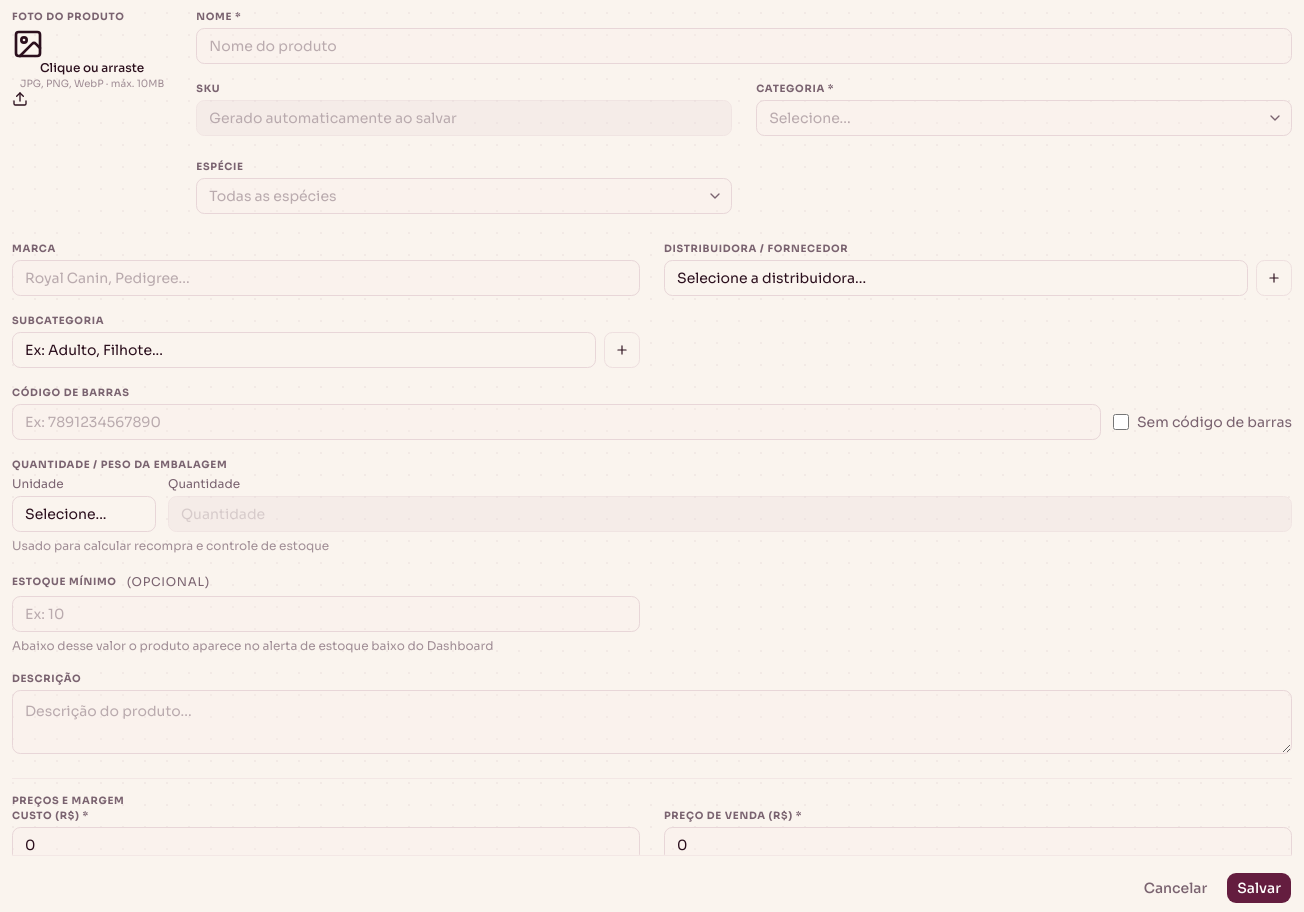
Test: ProdutoForm — distribuidora › distribuidora realmente nova continua sendo adicionada
Click the button titled "Nome da nova distribuidora" at (1274, 278), box [1256, 260, 1292, 296]
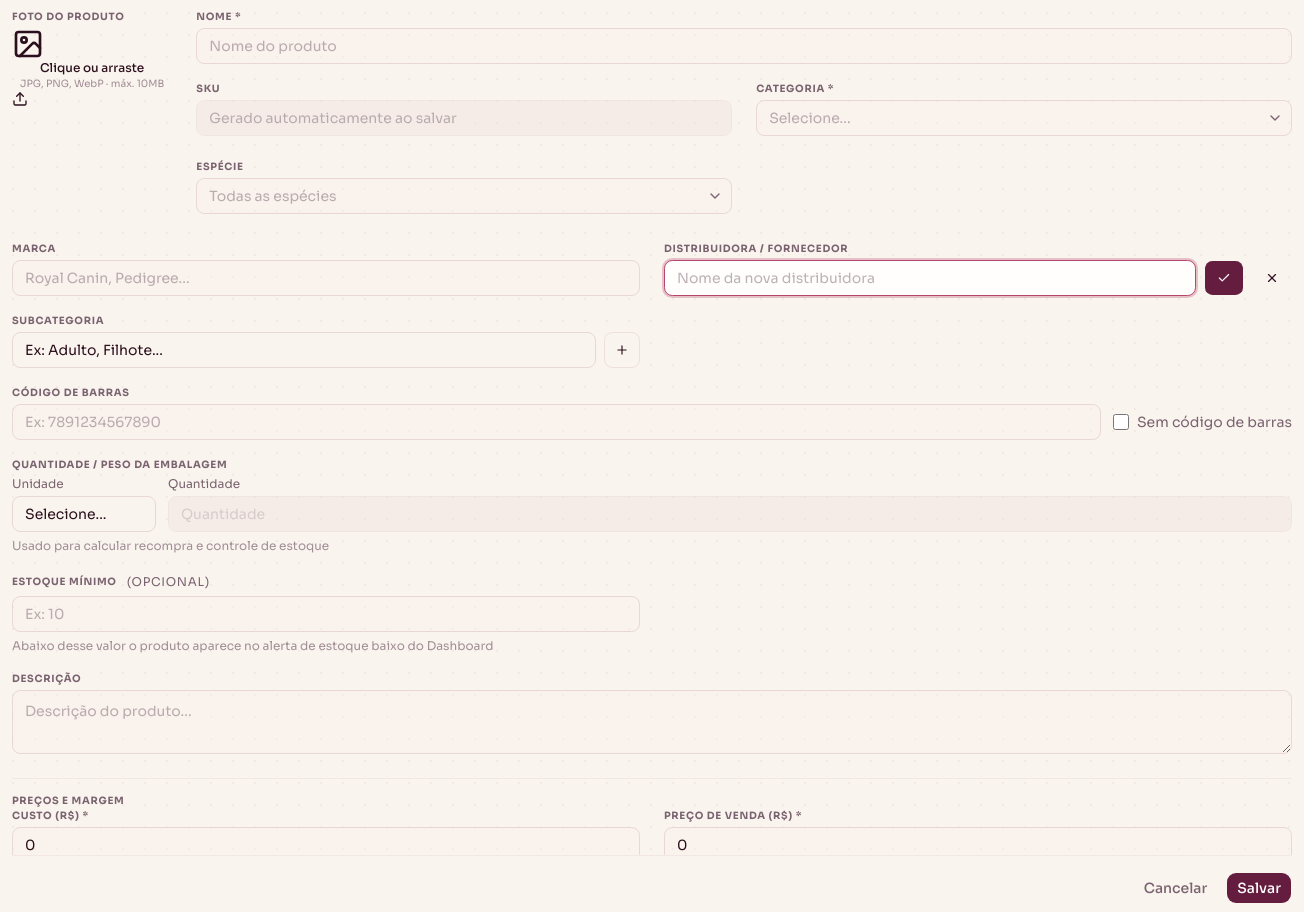
Type "Nova Dist" into the field with placeholder "Nome da nova distribuidora" at (930, 278), box [664, 260, 1196, 296]
Then press Enter
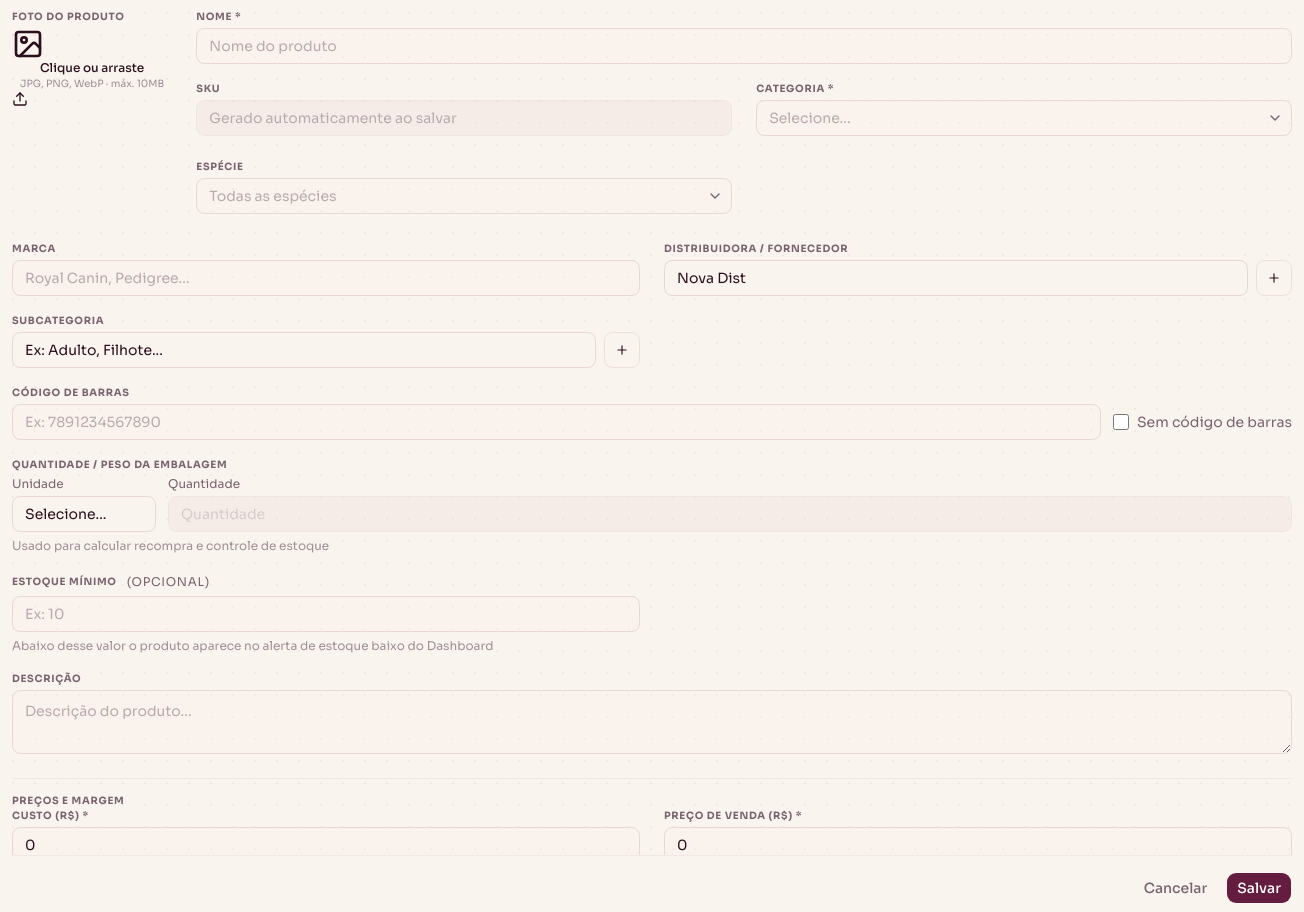
Check: the dropdown named "Selecione a distribuidora..." below "Distribuidora / Fornecedor" shows "Nova Dist", box [664, 260, 1248, 296]
